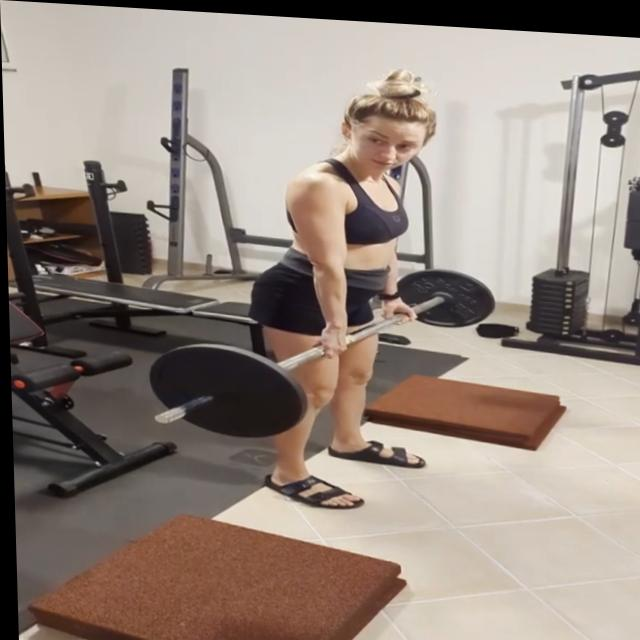barbell: (138, 334, 311, 443)
